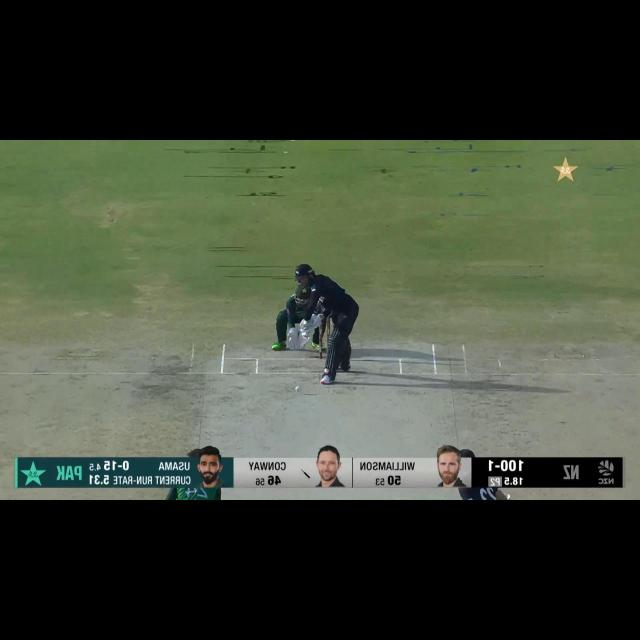toe: (296, 318, 306, 326)
